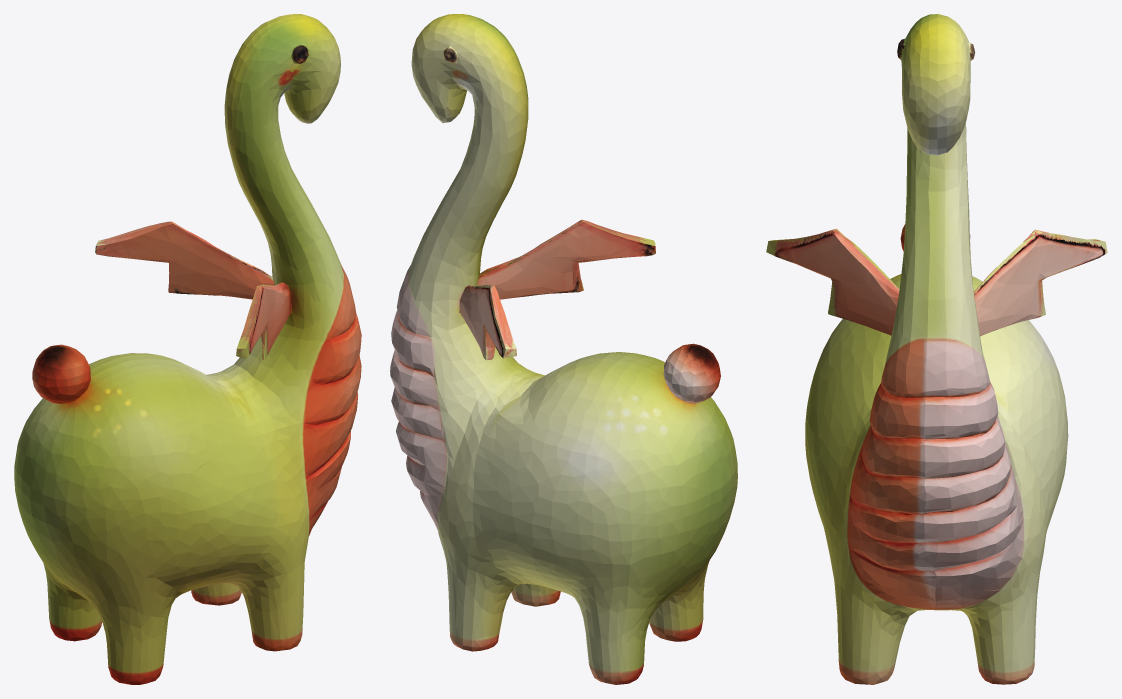
3 renders of one model, left to right at view 1: azimuth 30°, elevation 25°; view 2: azimuth 150°, elevation 25°; view 3: azimuth 270°, elevation 25°, orthographic. The views are drawn at different scales.
Visible parts, largest first — view 1: world; view 2: world; view 3: world.
Part boxes in pixels (x1=…): world: x1=14, y1=14, x2=361, y2=684; world: x1=390, y1=14, x2=737, y2=684; world: x1=766, y1=14, x2=1107, y2=684.
Bounding box in the file's own units: 0.5733 × 1 × 0.4588.
Materials: 1 (1 with a texture image).
